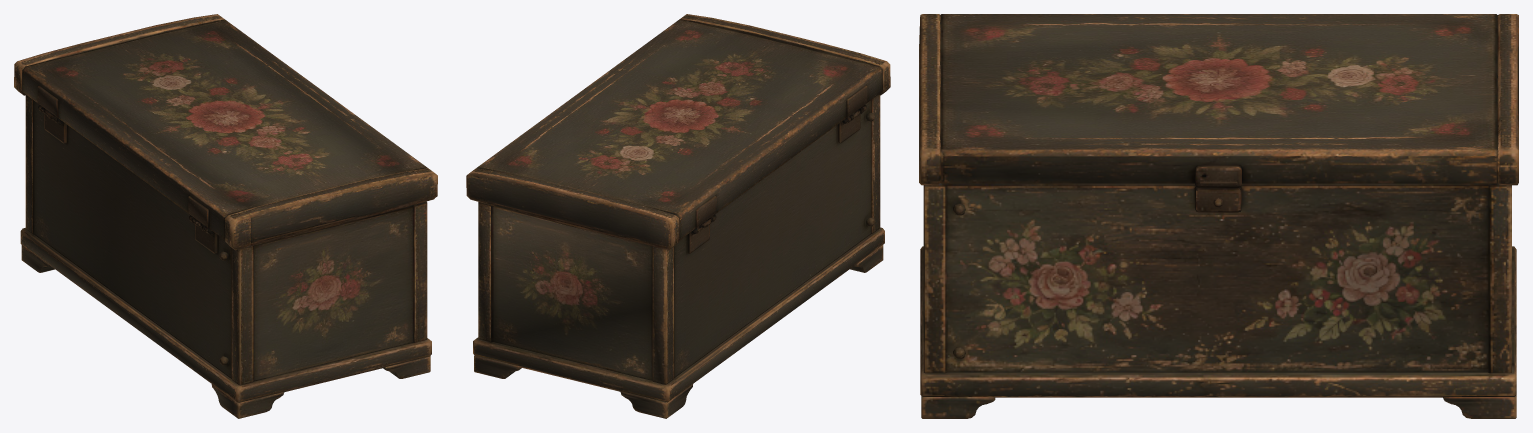
3 renders of one model, left to right at view 1: azimuth 30°, elevation 25°; view 2: azimuth 150°, elevation 25°; view 3: azimuth 270°, elevation 25°, orthographic. The views are drawn at different scales.
Parts seen in each view (by area): view 1: tripo_node_7c7ea171-534f-4756-bd8c-aad5cfcad00c; view 2: tripo_node_7c7ea171-534f-4756-bd8c-aad5cfcad00c; view 3: tripo_node_7c7ea171-534f-4756-bd8c-aad5cfcad00c.
Boxes of the visible parts, x1,y1,x2,y2 form: tripo_node_7c7ea171-534f-4756-bd8c-aad5cfcad00c: (14,14,437,418); tripo_node_7c7ea171-534f-4756-bd8c-aad5cfcad00c: (466,14,890,418); tripo_node_7c7ea171-534f-4756-bd8c-aad5cfcad00c: (919,14,1518,418).
Size of the model in its own units: 0.5566 by 0.5098 by 0.998.
Materials: 1 (1 with a texture image).
